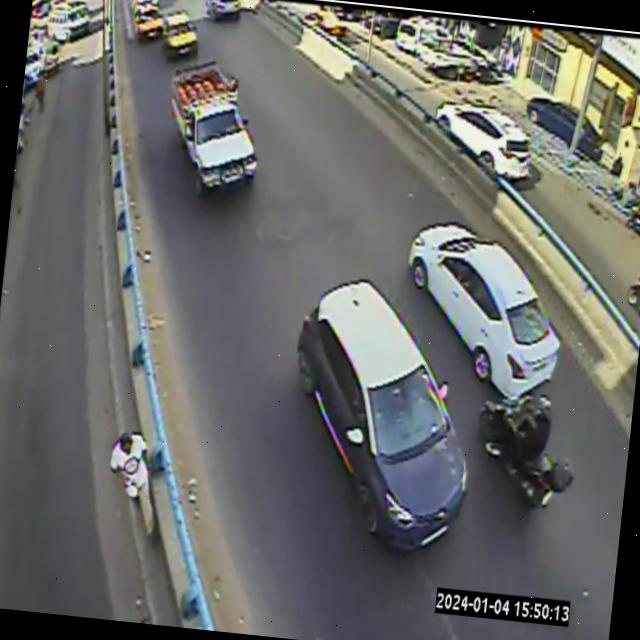car: (296, 279, 468, 548), (407, 222, 559, 397), (171, 60, 256, 188), (434, 100, 529, 179), (163, 12, 198, 57), (134, 5, 161, 37), (205, 0, 241, 20)
